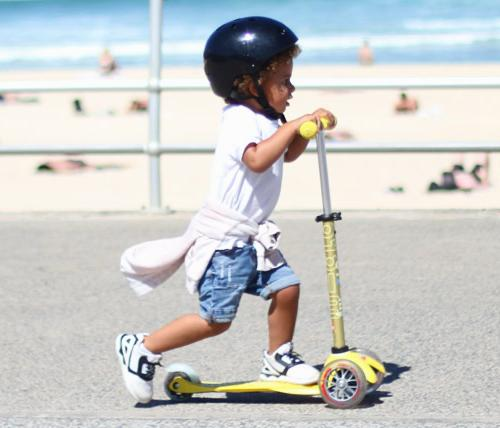With Helmet: (200, 10, 304, 123)
